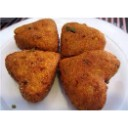cutlet: (59, 53, 120, 109), (5, 49, 57, 100), (14, 15, 61, 50), (61, 17, 107, 50)
